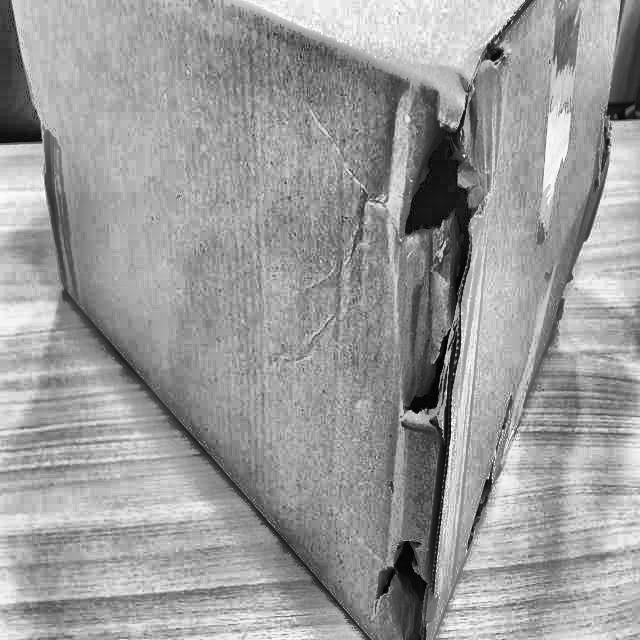box: (0, 0, 630, 639)
hole: (388, 83, 474, 437), (372, 529, 431, 640)
